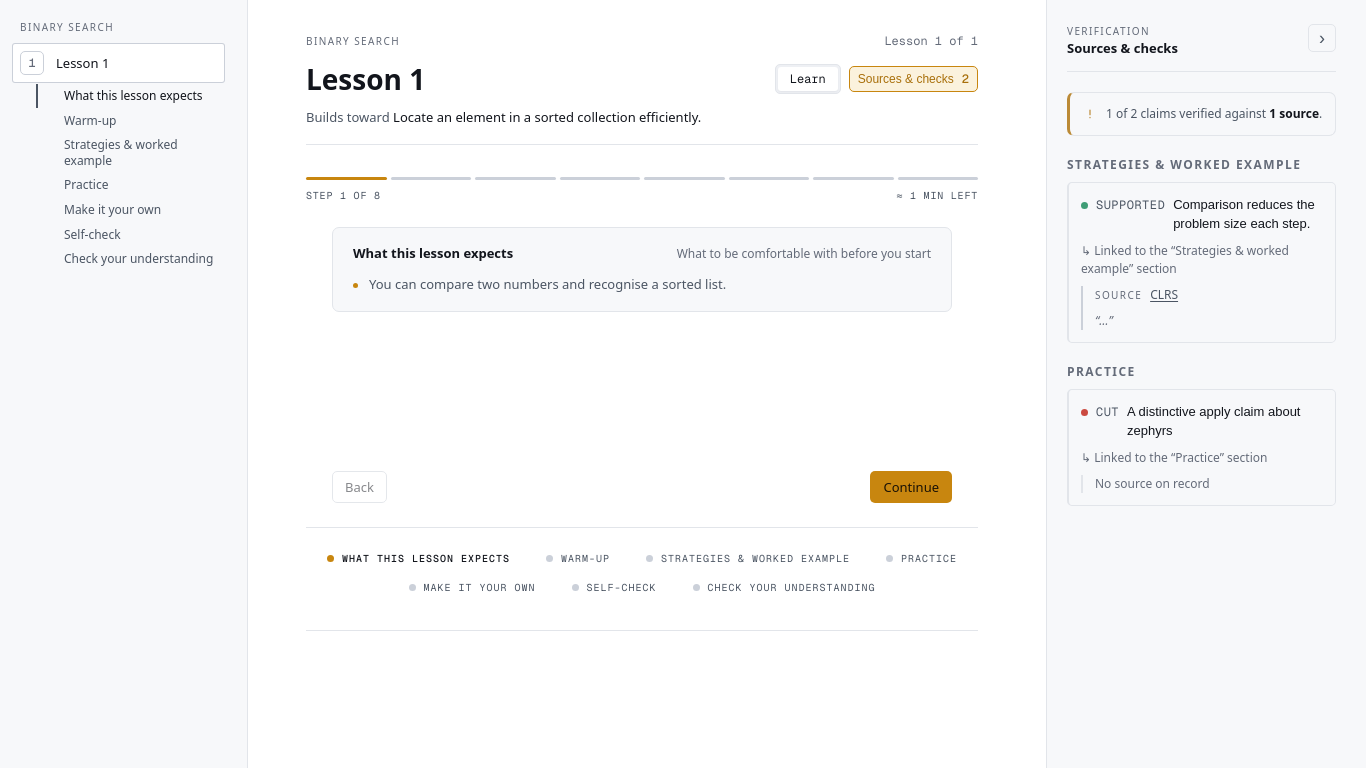
Scenario: CourseReader — claim → lesson backlink › locates a claim in the apply phase to its “Practice” step
The image size is (1366, 768).
Click the button "CUT A distinctive apply claim about zephyrs" at [1202, 421], box [1081,402,1323,440]
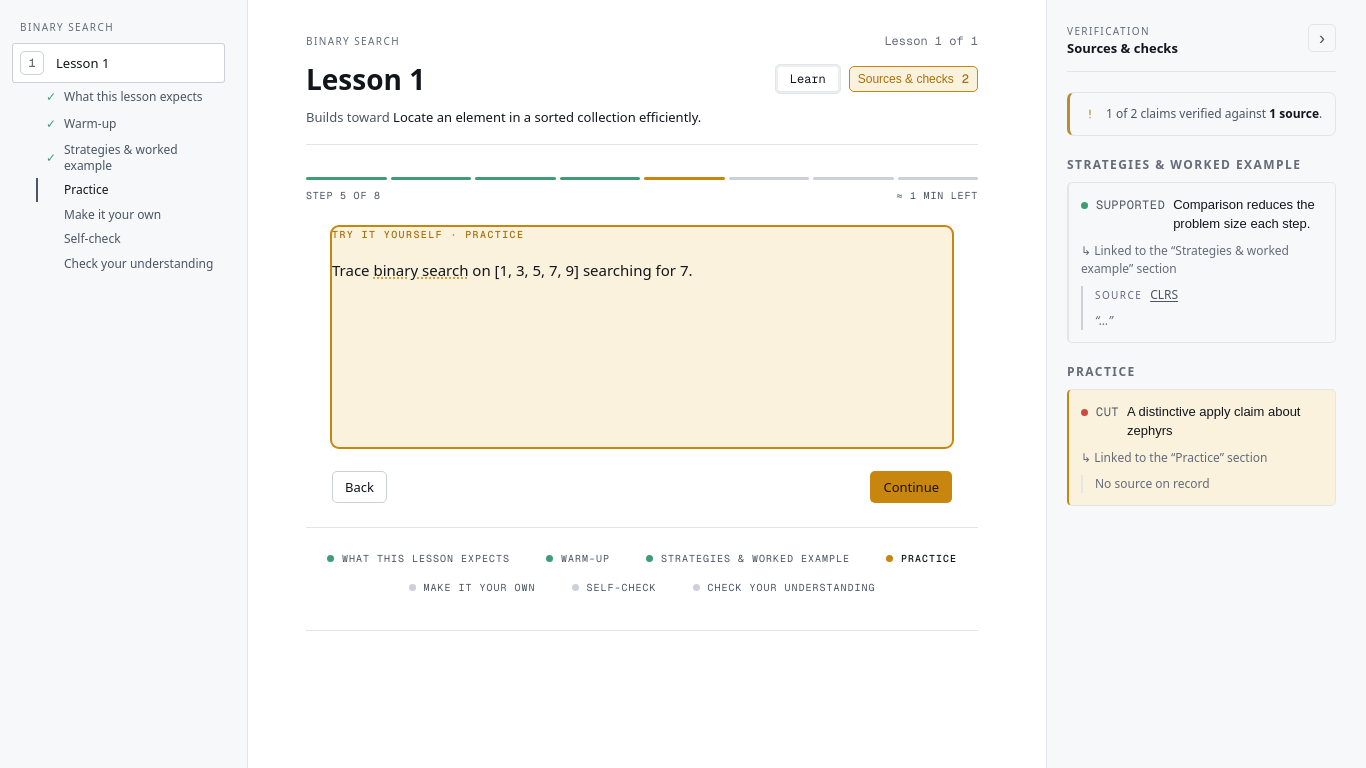
Expected: the text "Try it yourself · Practice" is shown, [332,228,524,240]
